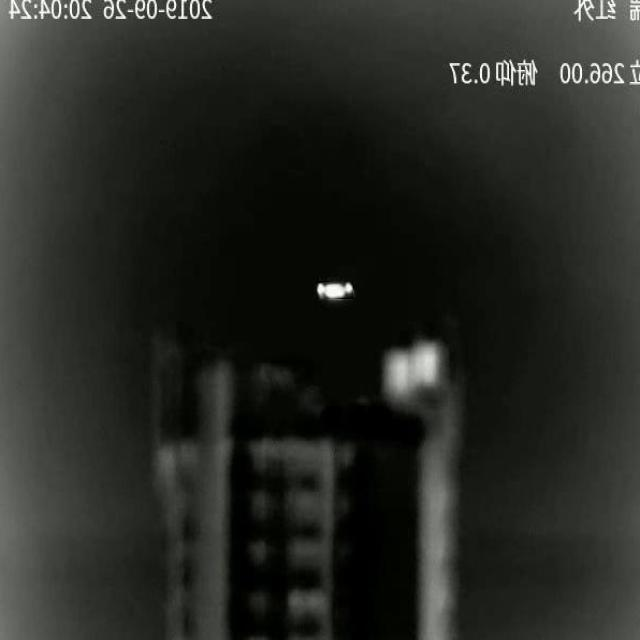drone: (317, 284, 353, 299)
